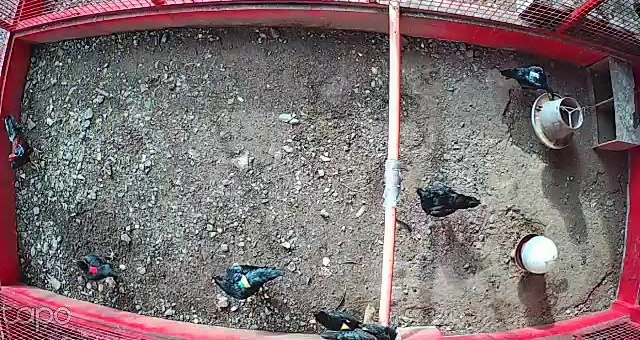Chicken: (207, 257, 286, 303), (414, 179, 482, 221), (496, 59, 556, 104), (319, 314, 407, 340), (73, 252, 125, 286), (311, 302, 366, 334)
Rooster: (3, 113, 48, 175)
Saddle_Color_Red: (90, 265, 97, 274)
Saddle_Color_Yellow: (342, 319, 353, 329)
Saddle_Color_YellowGreen: (236, 273, 250, 292)
